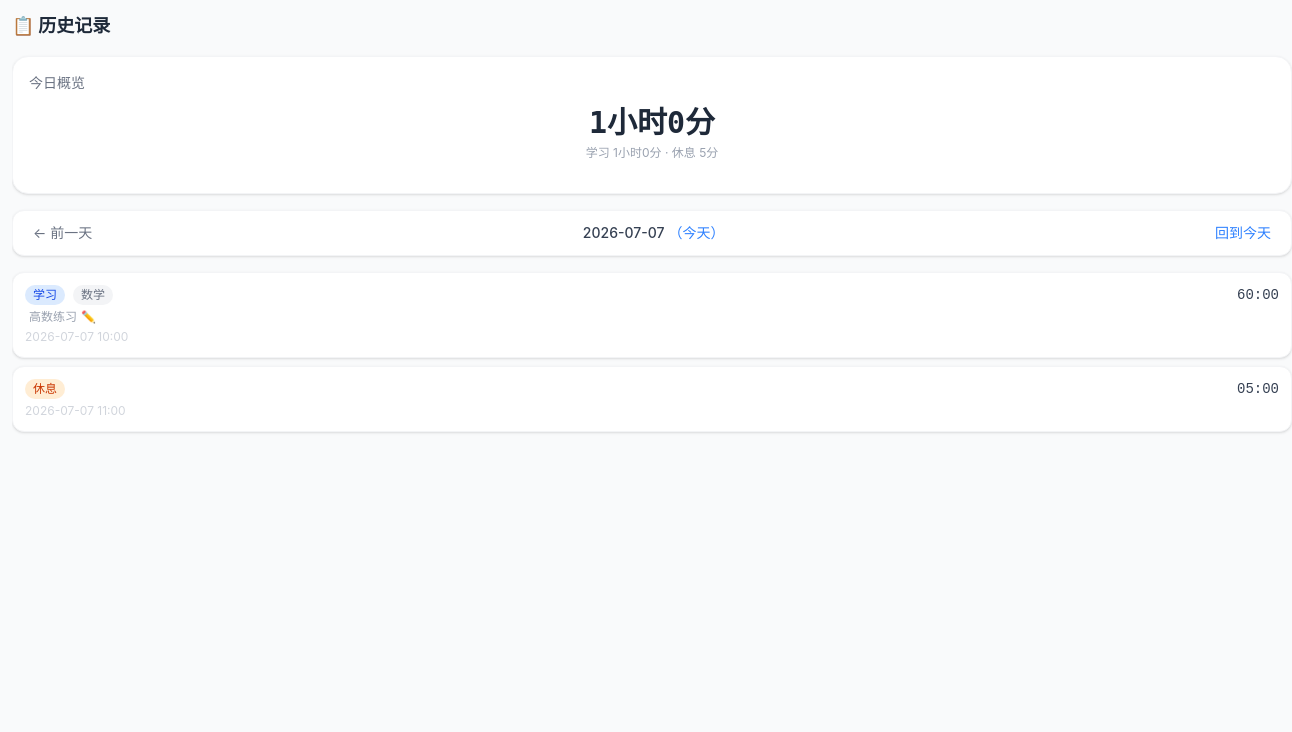
Test case: HistoryPage › 点击 ✏️ 进入编辑态（预填原备注）
Expected: the button "高数练习" is shown, [29, 309, 77, 325]
Click the button titled "编辑备注" at (88, 317), box [81, 309, 96, 325]
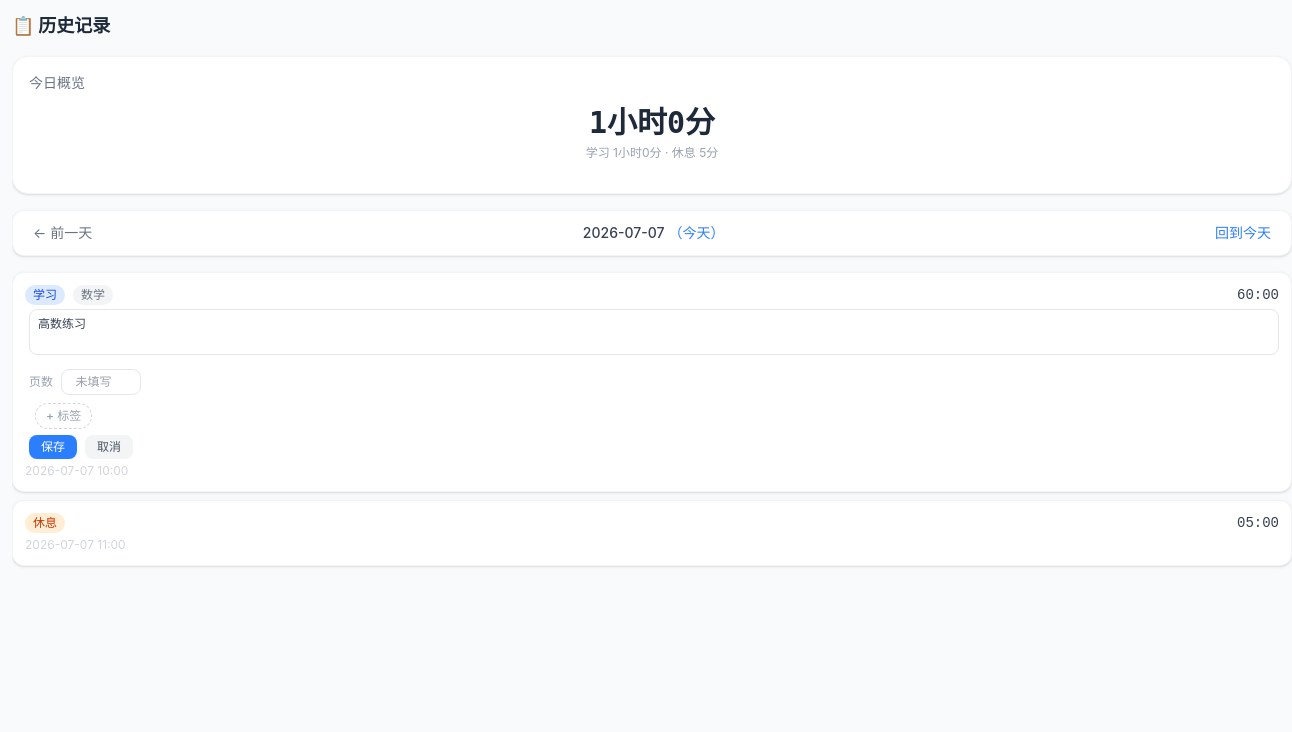
Now the text box with placeholder "记录一下当前的学习内容..." holds "高数练习", box [29, 309, 1279, 355]
